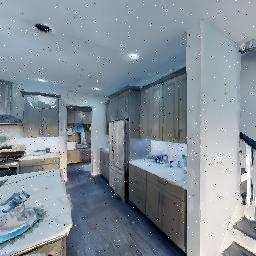door-frame: (58, 102, 98, 182)
